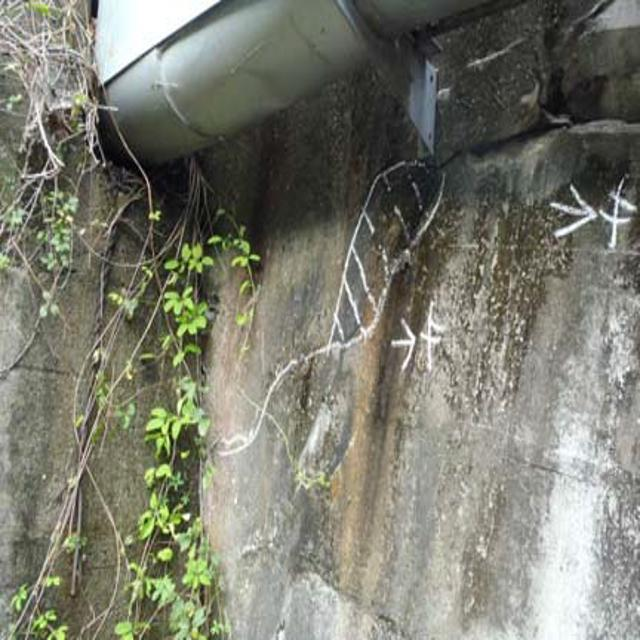spalling: (472, 80, 582, 207)
